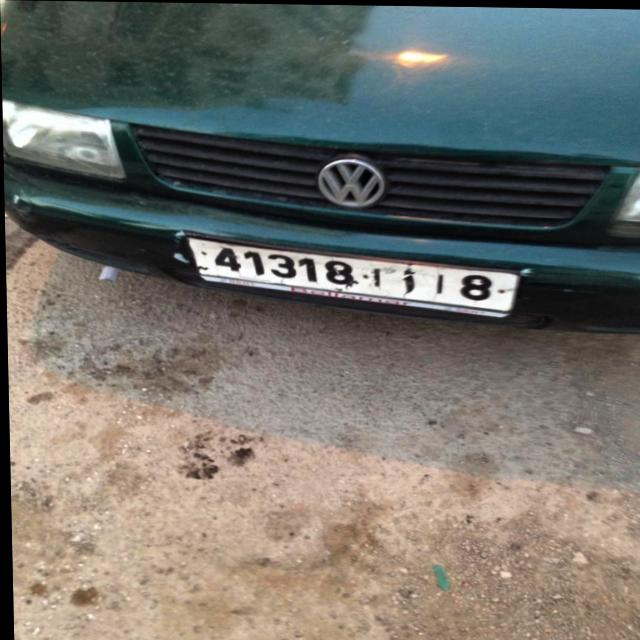License-Plate: (186, 236, 518, 315)
